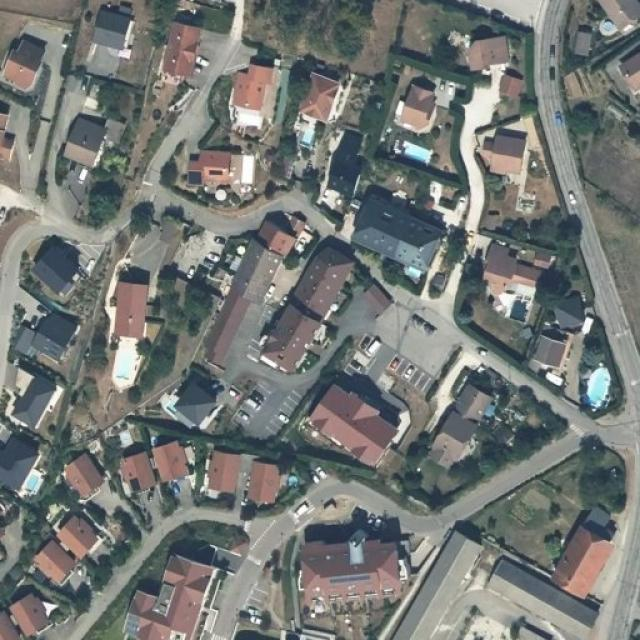immeuble: (96, 551, 229, 640), (284, 525, 416, 612)
maison: (353, 200, 454, 283), (318, 384, 395, 472), (434, 383, 503, 475), (290, 242, 352, 326), (556, 520, 616, 605), (483, 238, 545, 309), (180, 143, 260, 197), (376, 73, 444, 134), (261, 292, 312, 372), (11, 303, 80, 362), (470, 126, 542, 182), (0, 364, 60, 429), (201, 292, 249, 372), (225, 230, 273, 308), (155, 21, 209, 90), (82, 11, 137, 77), (0, 430, 55, 496), (58, 119, 114, 180), (111, 282, 161, 349), (232, 54, 286, 116), (455, 29, 522, 78), (294, 69, 350, 127), (32, 244, 84, 298), (28, 542, 83, 588), (105, 448, 159, 494), (4, 592, 58, 637), (1, 39, 48, 89), (252, 210, 302, 257), (53, 511, 104, 556), (204, 442, 245, 496), (248, 455, 288, 510), (530, 329, 568, 378), (62, 453, 106, 495), (156, 444, 192, 481), (491, 68, 524, 100)
piscine: (106, 338, 148, 394), (578, 359, 618, 416), (399, 136, 441, 176), (588, 9, 625, 41), (394, 262, 434, 286), (18, 466, 44, 502), (155, 393, 186, 423), (294, 122, 325, 151), (280, 464, 302, 494)
